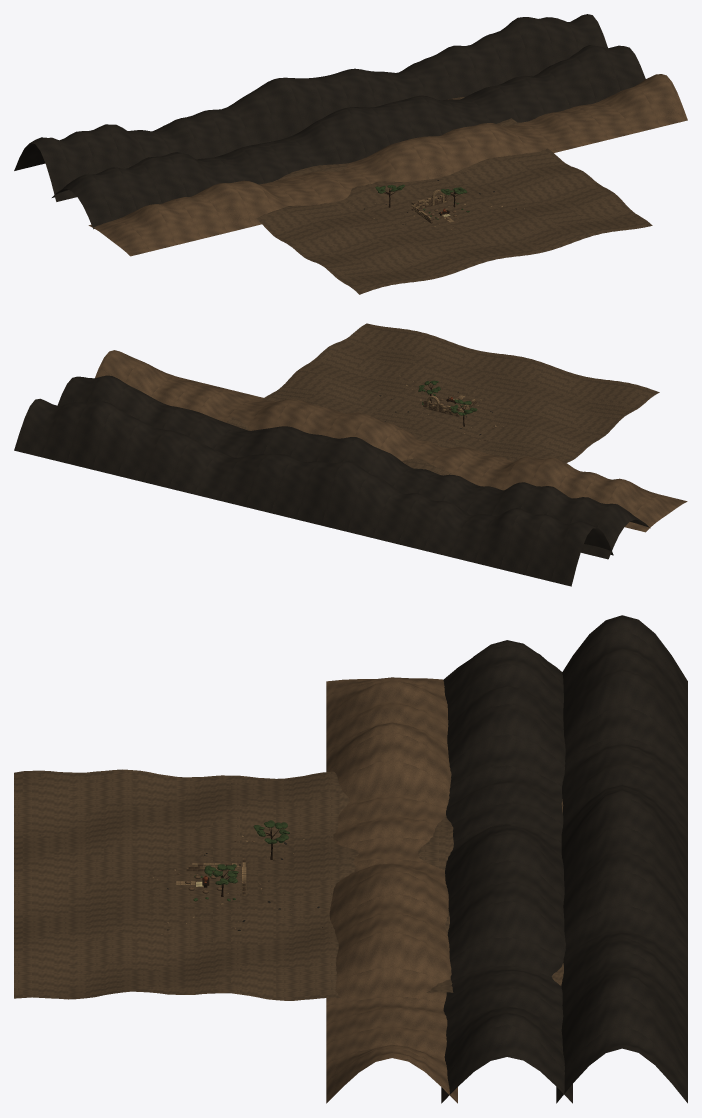
The model's file is chapter-5.glb.
The picture shows the model from 3 angles, top to bottom: view 1: azimuth 30°, elevation 25°; view 2: azimuth 150°, elevation 25°; view 3: azimuth 270°, elevation 25°; orthographic projection. The views are drawn at different scales.
Parts seen in each view (by area): view 1: Continuous weathered terrain 5, Eroded ridge band 2.005, Eroded ridge band 1.005, Eroded ridge band 0.005; view 2: Eroded ridge band 2.005, Continuous weathered terrain 5, Eroded ridge band 0.005, Eroded ridge band 1.005; view 3: Continuous weathered terrain 5, Eroded ridge band 2.005, Eroded ridge band 1.005, Eroded ridge band 0.005.
Part boxes in pixels (bbox=[...]): Continuous weathered terrain 5: bbox=[256, 97, 652, 294]; Eroded ridge band 2.005: bbox=[14, 14, 607, 201]; Eroded ridge band 1.005: bbox=[52, 45, 645, 229]; Eroded ridge band 0.005: bbox=[88, 74, 687, 256]; Eroded ridge band 2.005: bbox=[14, 398, 613, 586]; Continuous weathered terrain 5: bbox=[226, 323, 659, 475]; Eroded ridge band 0.005: bbox=[95, 350, 687, 532]; Eroded ridge band 1.005: bbox=[57, 375, 650, 559]; Continuous weathered terrain 5: bbox=[14, 769, 563, 1000]; Eroded ridge band 2.005: bbox=[556, 615, 687, 1103]; Eroded ridge band 1.005: bbox=[441, 640, 572, 1103]; Eroded ridge band 0.005: bbox=[326, 677, 457, 1103].
Size of the model in its own units: 182 by 15.62 by 123.
Materials: 8 (8 with a texture image).
